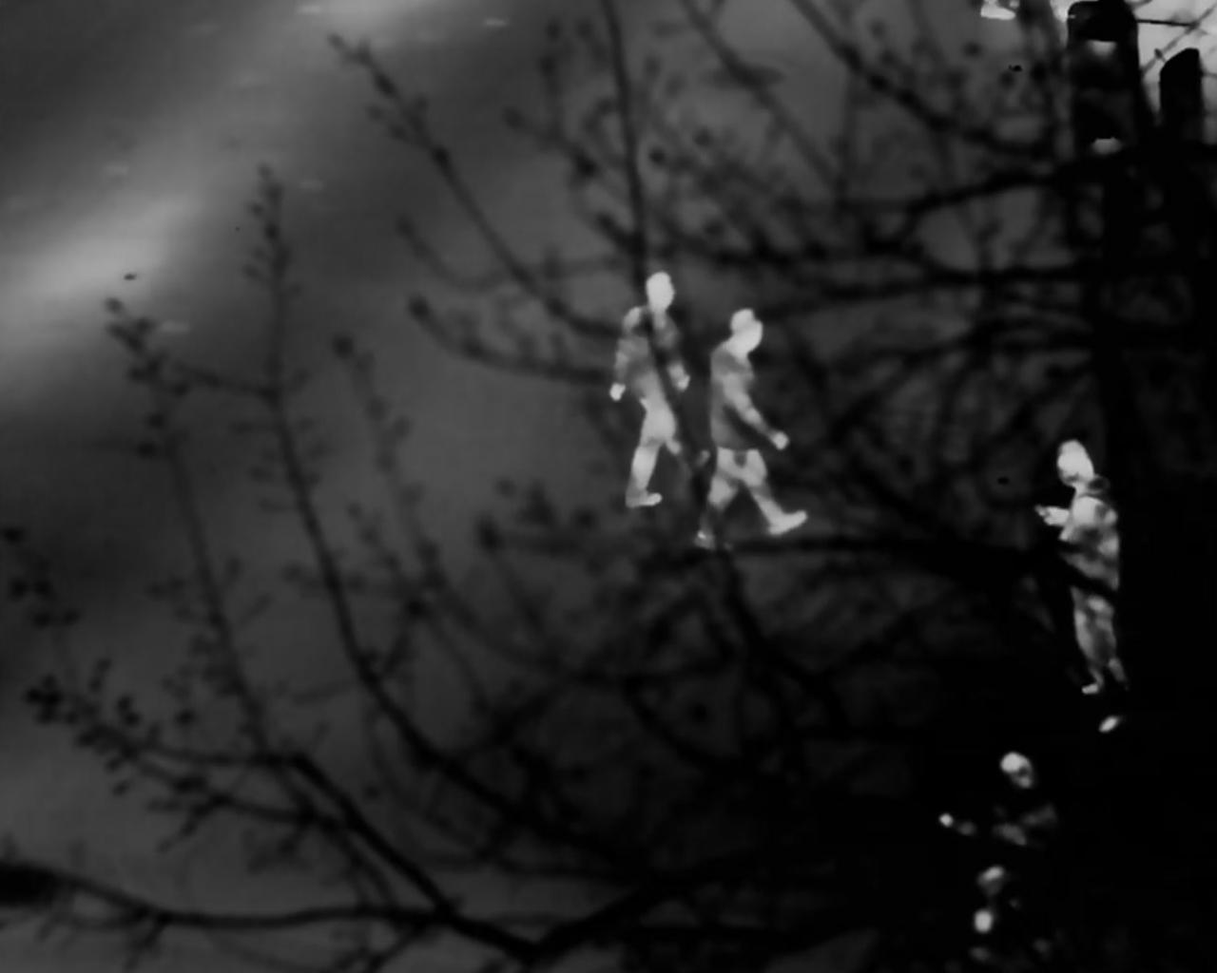person: (1046, 437, 1142, 708), (686, 309, 797, 533), (617, 277, 687, 484)
